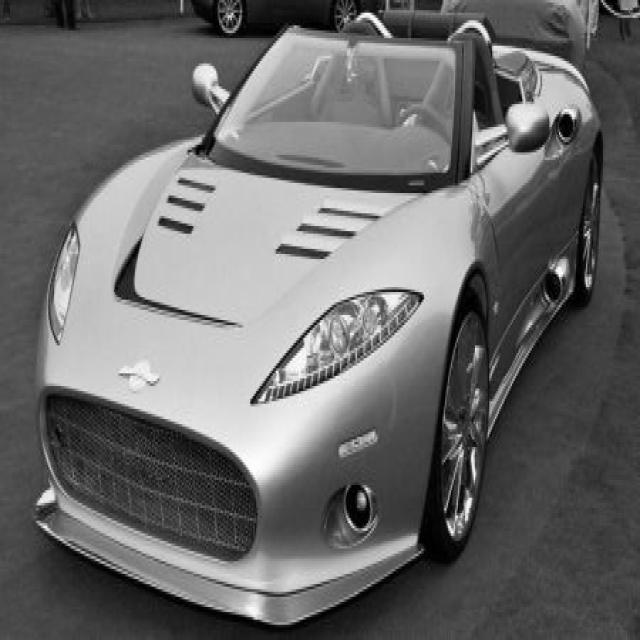car: (31, 5, 603, 627)
